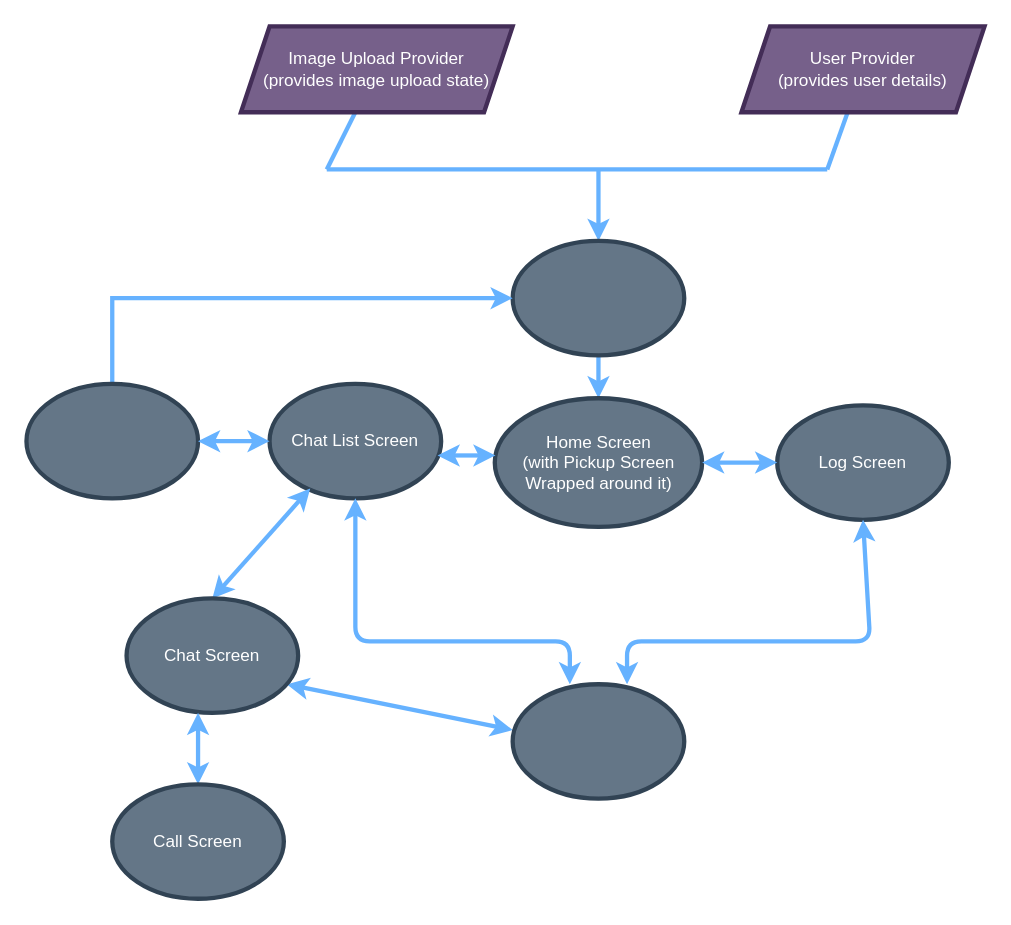
Some shapes in this 1011 by 925 pixel diagram are drawn without their labels. The centre of each missing label's shape, as x and y in pixels:
"Login Screen" goes at (x=598, y=297).
"Search Screen" goes at (x=598, y=740).
"User Details Screen" goes at (x=111, y=440).
